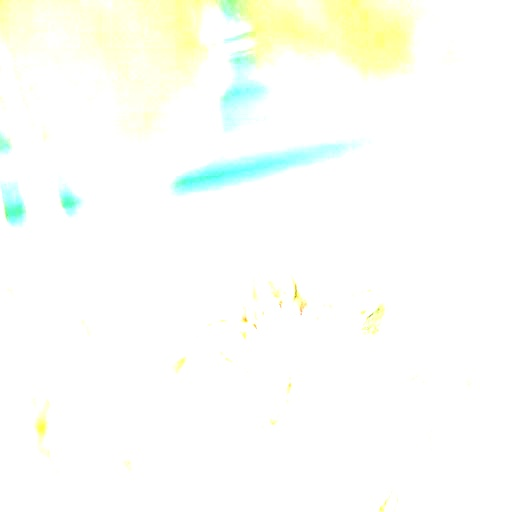Gray Mold: (186, 235, 399, 434)
